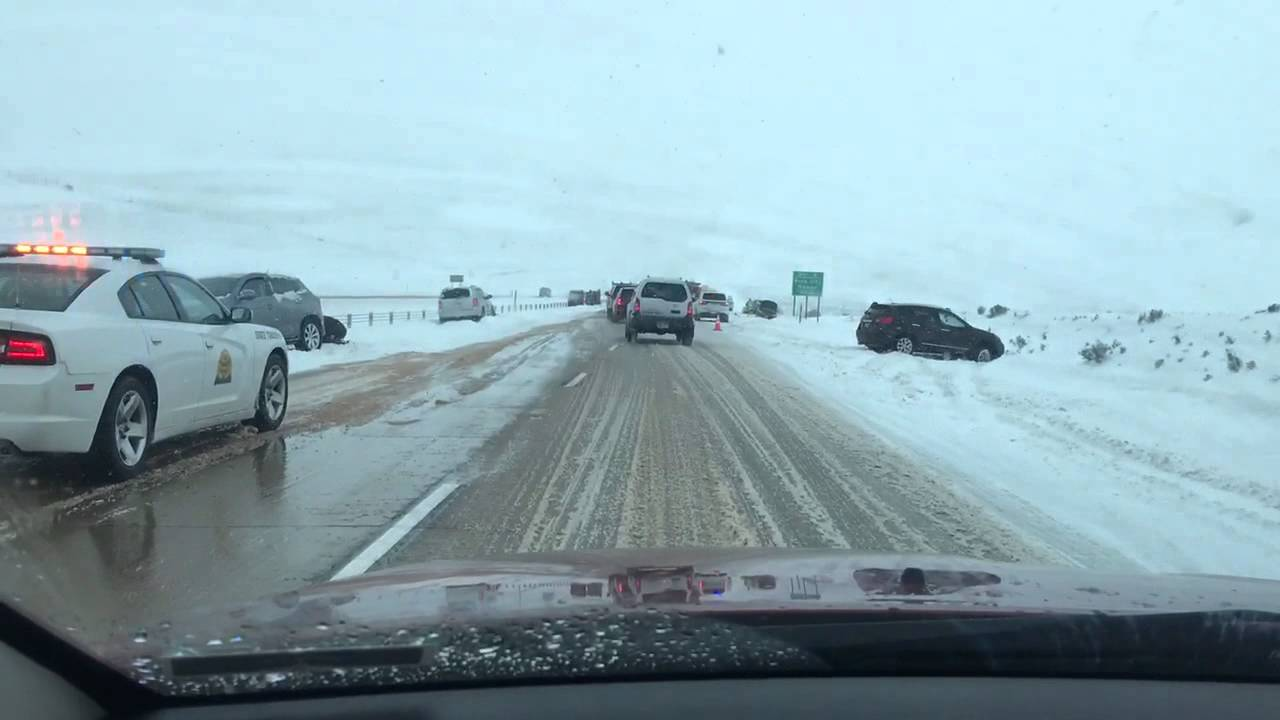car: (1, 235, 295, 474), (856, 298, 1006, 364), (628, 277, 698, 348)
